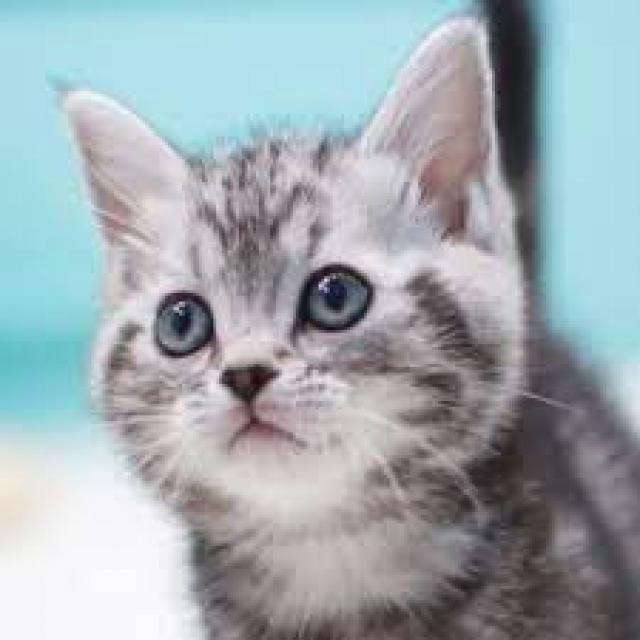cat-face: (22, 40, 576, 555)
